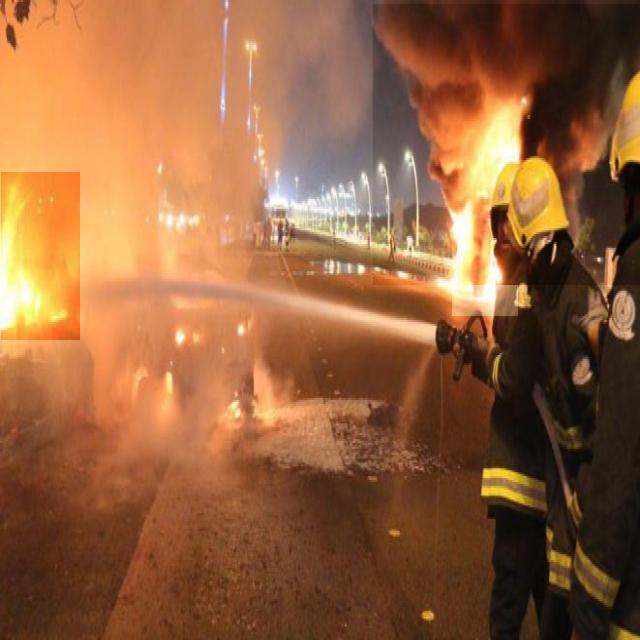Fire: (452, 98, 518, 316), (1, 172, 80, 340)
Smoke: (373, 4, 640, 285)
